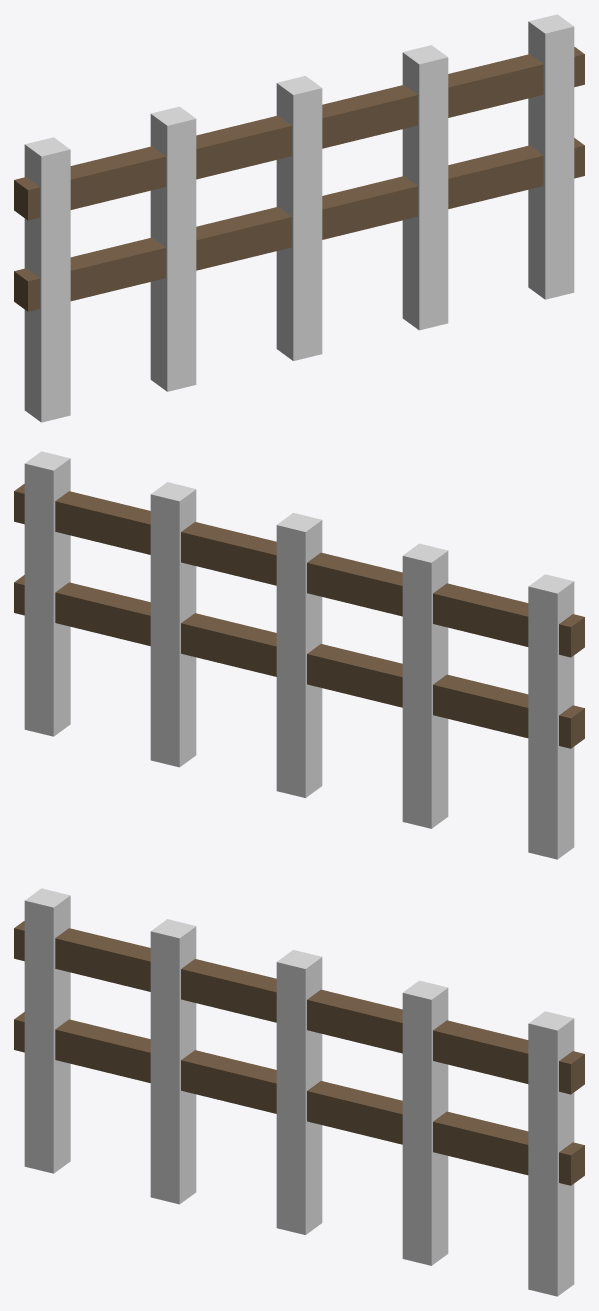
Rendered from build_fence_01.glb.
3 renders of one model, top to bottom at view 1: azimuth 30°, elevation 25°; view 2: azimuth 150°, elevation 25°; view 3: azimuth 330°, elevation 25°, orthographic.
Visible parts, largest first — view 1: build_fence_01; view 2: build_fence_01; view 3: build_fence_01.
Boxes of the visible parts, left/top/right/bottom form: build_fence_01: left=14, top=14, right=584, bottom=422; build_fence_01: left=14, top=451, right=584, bottom=859; build_fence_01: left=14, top=888, right=584, bottom=1296.
Bounding box in the file's own units: 2.3 × 1.05 × 0.1199.
